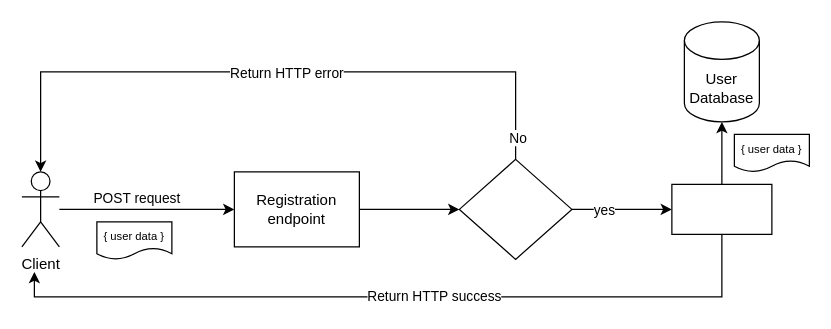
This 831x329 diagram has some shape labels left out. Each missing label, with the centre of its shape:
Create new user: point (721, 208)
Is valid request?: point (515, 208)
